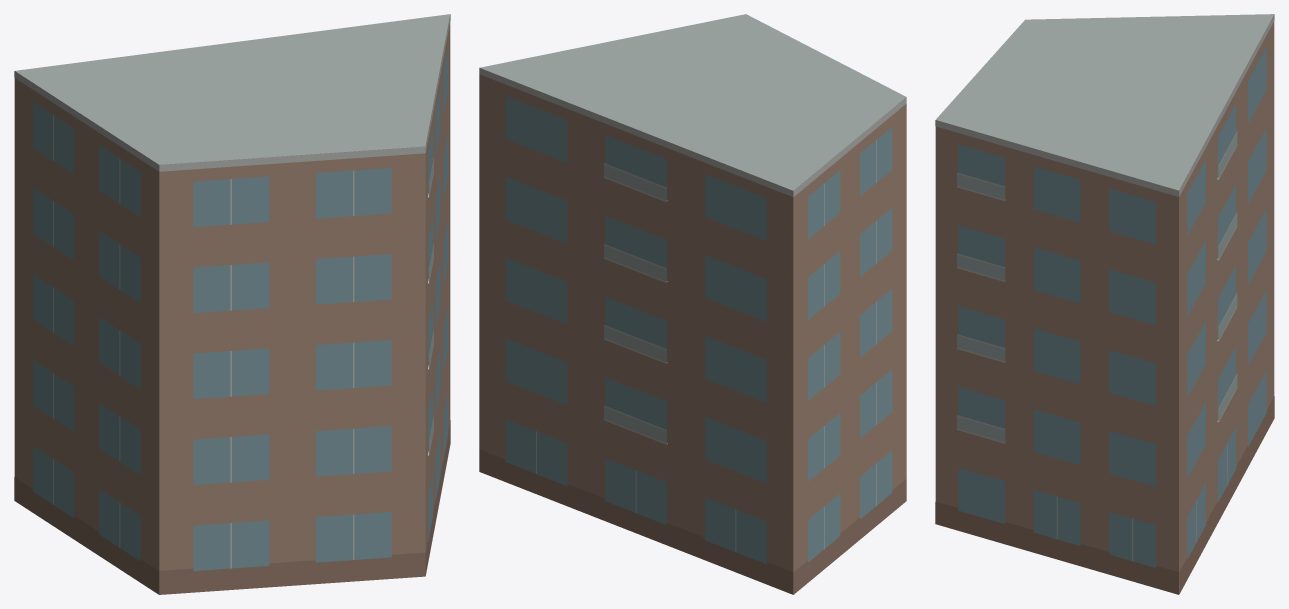
File: survey-upis-32875941.glb
3 views of the same model, side by side, from view 1: azimuth 30°, elevation 25°; view 2: azimuth 150°, elevation 25°; view 3: azimuth 270°, elevation 25° (orthographic). The views are drawn at different scales.
Visible parts, largest first — view 1: survey-upis-32875941.tmp; view 2: survey-upis-32875941.tmp; view 3: survey-upis-32875941.tmp.
Part boxes in pixels (x1,y1,x2,y2): survey-upis-32875941.tmp: (14,14,450,594); survey-upis-32875941.tmp: (479,14,906,594); survey-upis-32875941.tmp: (935,14,1274,594).
Size of the model in its own units: 14.35 by 15.3 by 11.64.
